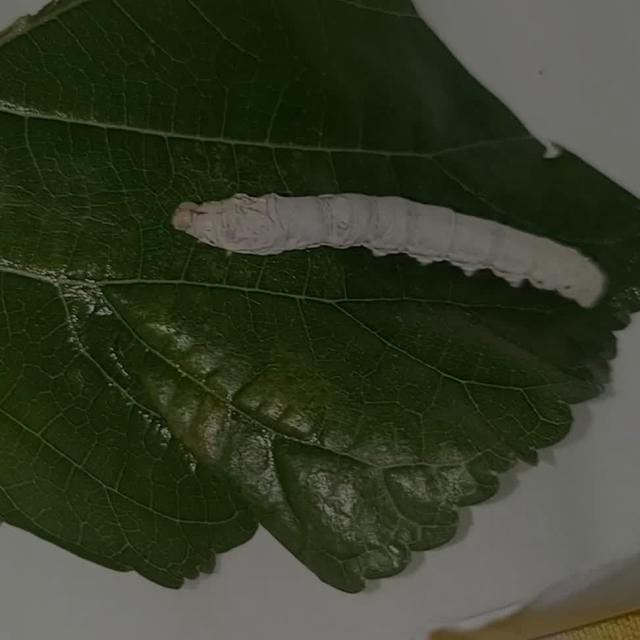Healthy: (160, 171, 608, 331)
